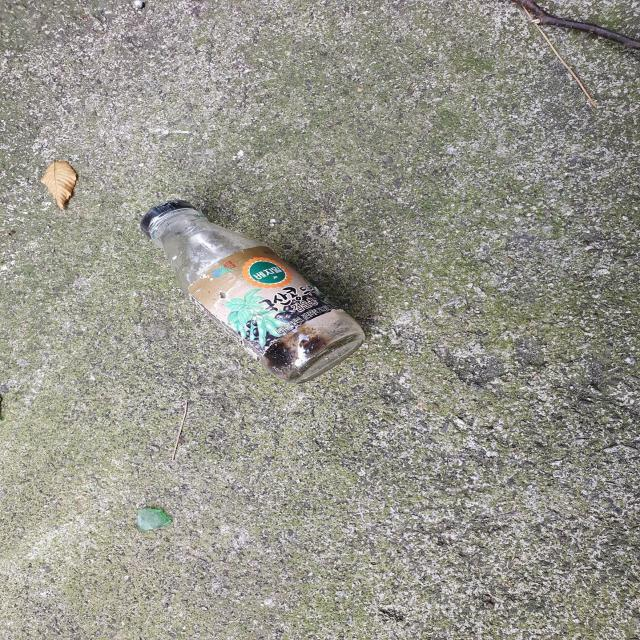glass: (140, 201, 365, 383)
